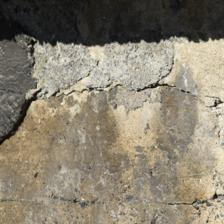Crack: (2, 40, 222, 105)
